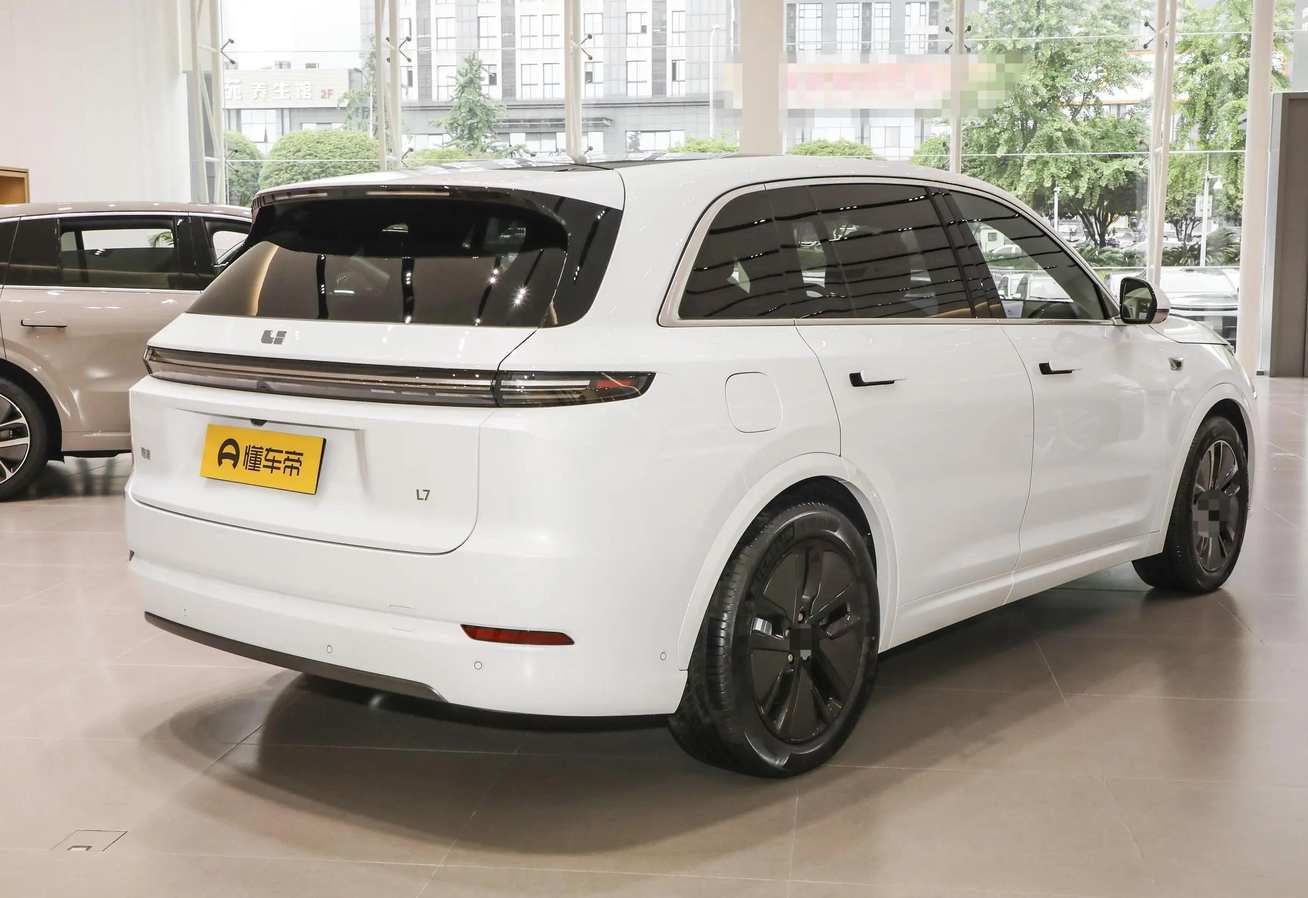Li Auto: (261, 329, 286, 345)
